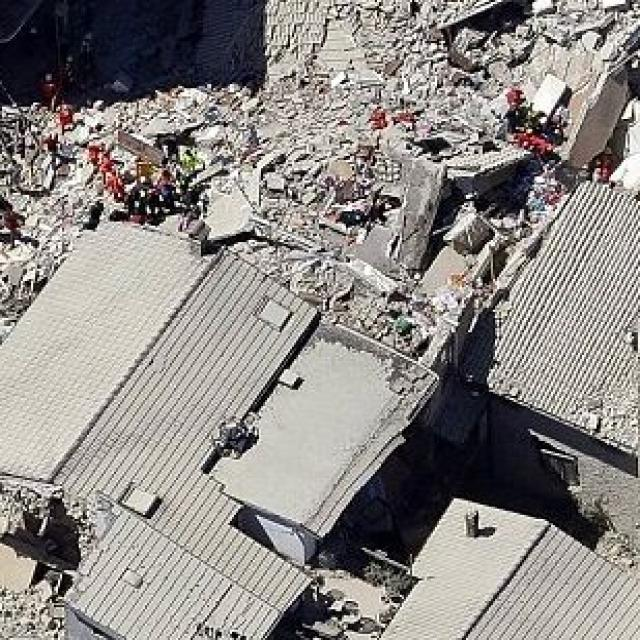collapsed_building: (31, 0, 468, 279)
